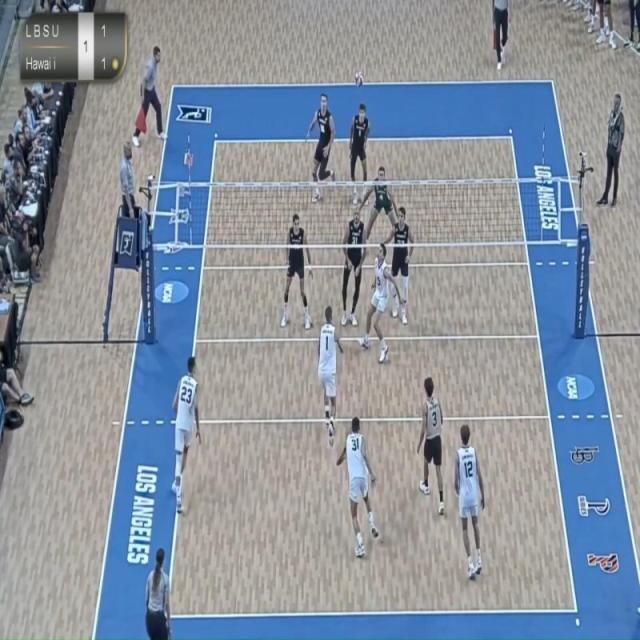volleyball: (353, 68, 365, 90)
